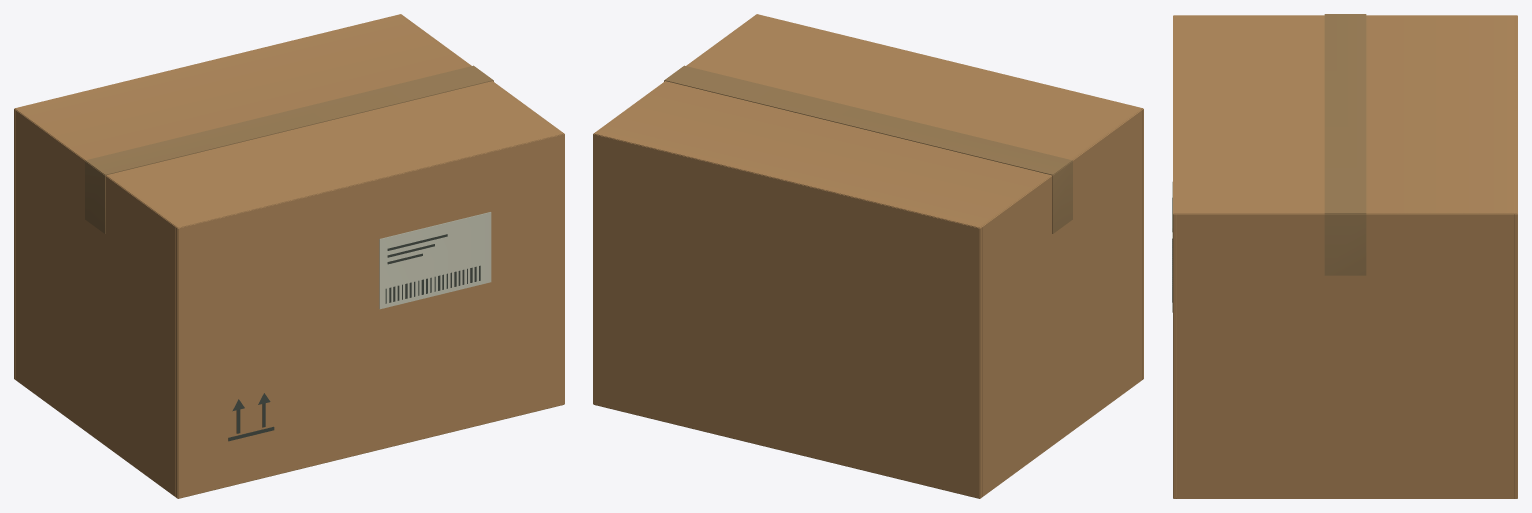
Rendered from receiving-carton.glb.
The picture shows the model from 3 angles, left to right: view 1: azimuth 30°, elevation 25°; view 2: azimuth 150°, elevation 25°; view 3: azimuth 270°, elevation 25°; orthographic projection. The views are drawn at different scales.
Parts seen in each view (by area): view 1: Frame; view 2: Frame; view 3: Frame.
Part boxes in pixels (left/top/right/bottom): Frame: left=14, top=14, right=564, bottom=498; Frame: left=593, top=14, right=1143, bottom=498; Frame: left=1172, top=14, right=1517, bottom=498.
Bounding box in the file's own units: 0.488 × 0.3258 × 0.3571.
